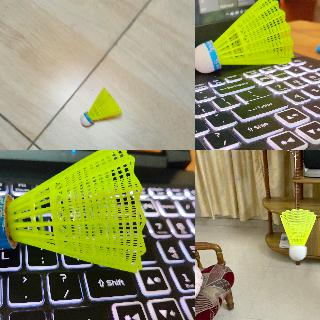shuttlecock: (0, 150, 144, 276), (195, 0, 298, 72), (279, 208, 315, 260), (79, 86, 121, 130)
